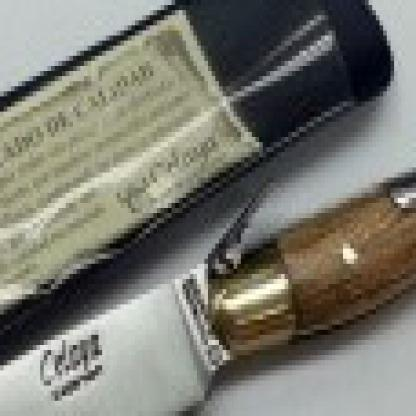knife: (0, 223, 281, 411)
